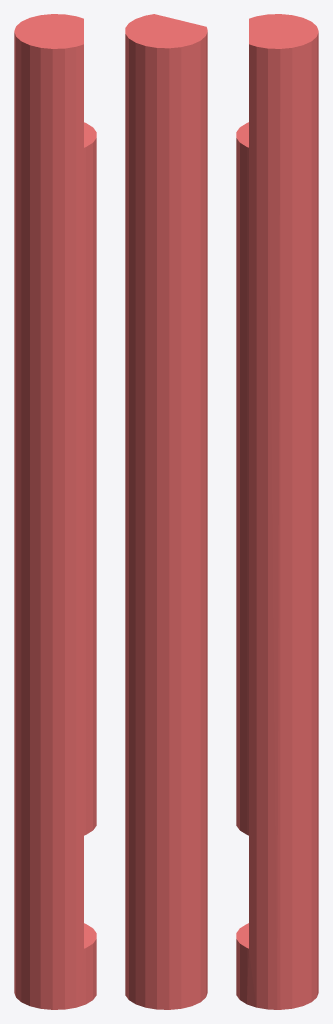
Rendered from crankshaft.glb.
3 views of the same model, side by side, from view 1: azimuth 90°, elevation 25°; view 2: azimuth 150°, elevation 25°; view 3: azimuth 270°, elevation 25° (orthographic).
Visible parts, largest first — view 1: Node1; view 2: Node1; view 3: Node1.
Part boxes in pixels (box(x1,y1,x2,y2)): Node1: box(14, 14, 96, 1009); Node1: box(125, 14, 207, 1009); Node1: box(236, 14, 318, 1009).
Bounding box in the file's own units: 3.17 × 40.48 × 3.15.
